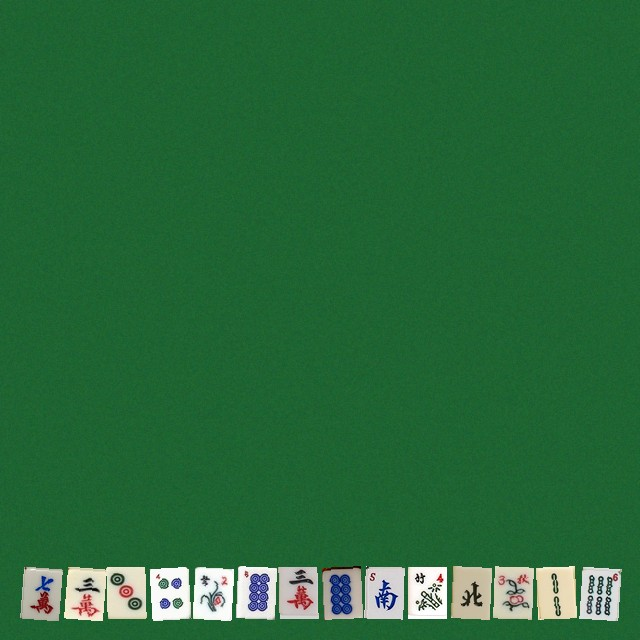tile: (20, 566, 59, 618), (63, 566, 102, 618), (106, 566, 145, 618), (149, 566, 188, 618), (192, 566, 231, 618), (235, 566, 274, 618), (278, 566, 317, 618), (321, 566, 360, 618), (364, 566, 403, 618), (407, 566, 446, 618), (450, 566, 489, 618), (493, 566, 532, 618), (536, 566, 575, 618), (579, 566, 618, 618)
